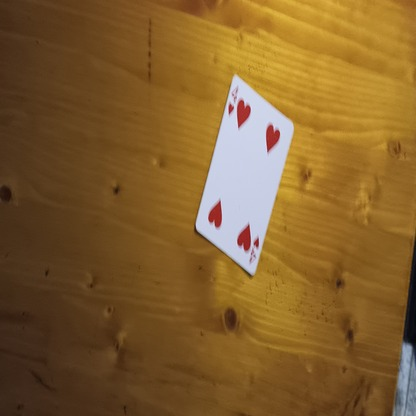4h: (247, 233, 262, 267), (228, 83, 238, 119)
